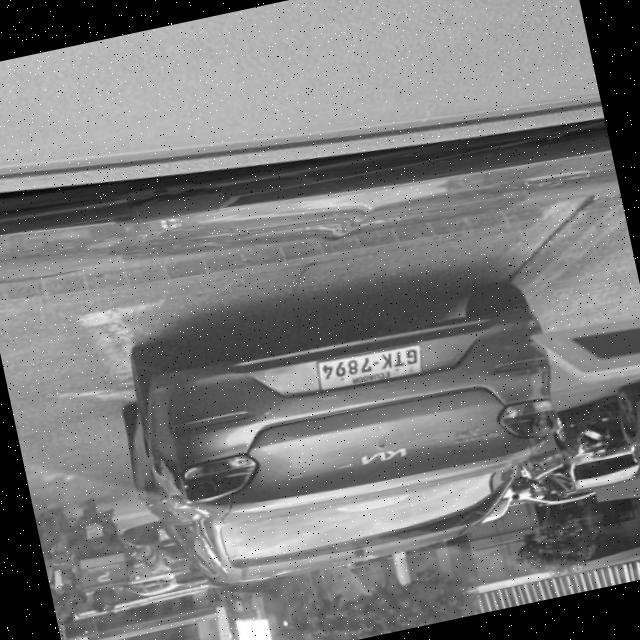Placa: (318, 345, 421, 390)
